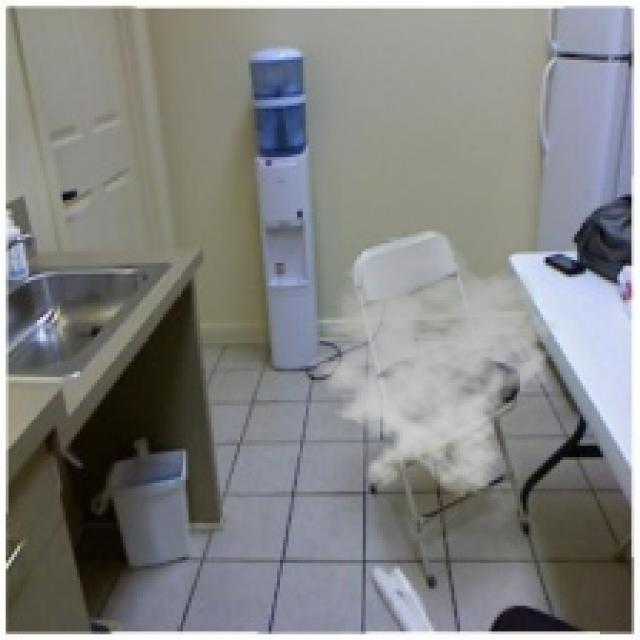Smoke: (291, 234, 560, 497)
